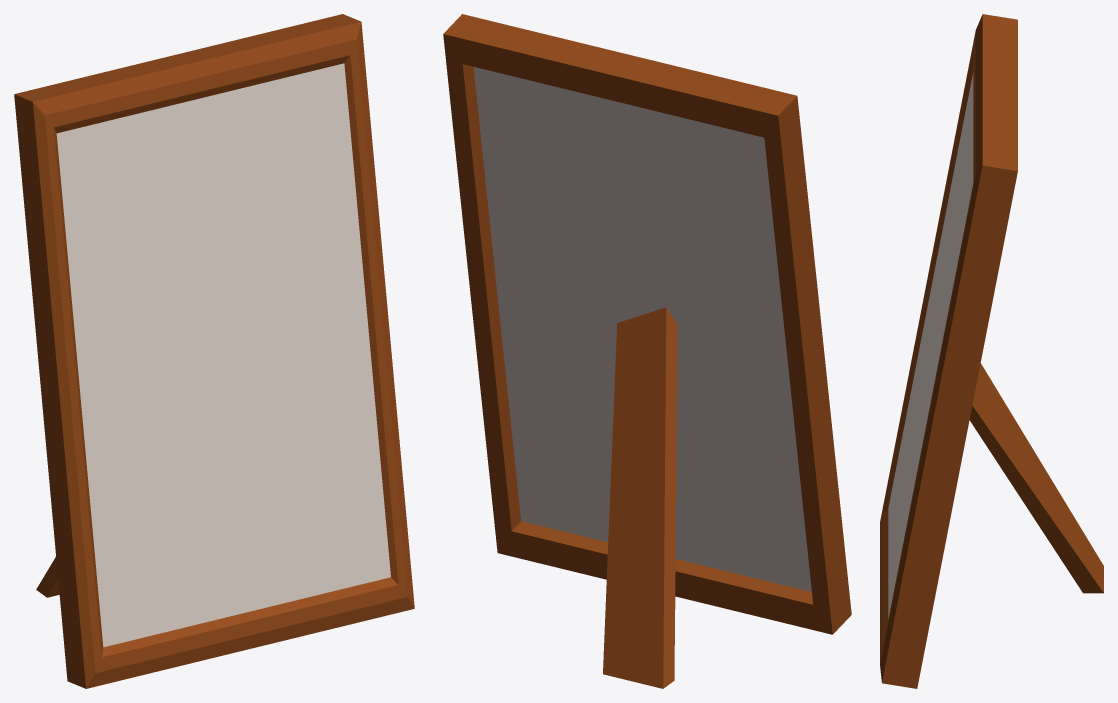
File: PictureFrame.fbx
3 renders of one model, left to right at view 1: azimuth 30°, elevation 25°; view 2: azimuth 150°, elevation 25°; view 3: azimuth 270°, elevation 25°, orthographic. The views are drawn at different scales.
Parts seen in each view (by area): view 1: Model; view 2: Model; view 3: Model.
Boxes of the visible parts, x1,y1,x2,y2 form: Model: (14,14,414,688); Model: (443,14,851,688); Model: (880,14,1103,688).
Size of the model in its own units: 10.48 by 16.88 by 6.54.
